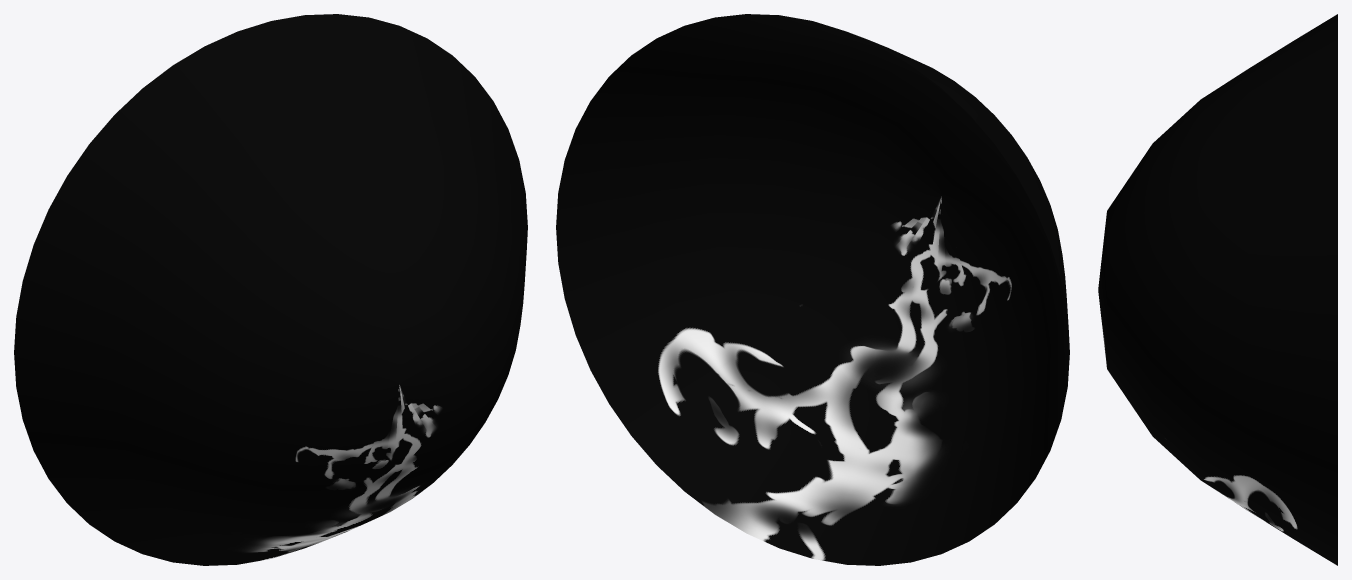
File: FireAura3.fbx
3 renders of one model, left to right at view 1: azimuth 30°, elevation 25°; view 2: azimuth 150°, elevation 25°; view 3: azimuth 270°, elevation 25°, orthographic. The views are drawn at different scales.
Visible parts, largest first — view 1: pasted__CircleFrontSphereHorizontal; view 2: pasted__CircleFrontSphereHorizontal; view 3: pasted__CircleFrontSphereHorizontal.
Part boxes in pixels (bbox=[...]): pasted__CircleFrontSphereHorizontal: bbox=[14, 14, 527, 565]; pasted__CircleFrontSphereHorizontal: bbox=[556, 14, 1069, 565]; pasted__CircleFrontSphereHorizontal: bbox=[1098, 14, 1337, 565].
Size of the model in its own units: 48.57 by 48.57 by 21.07.
1 material, 1 textured.
